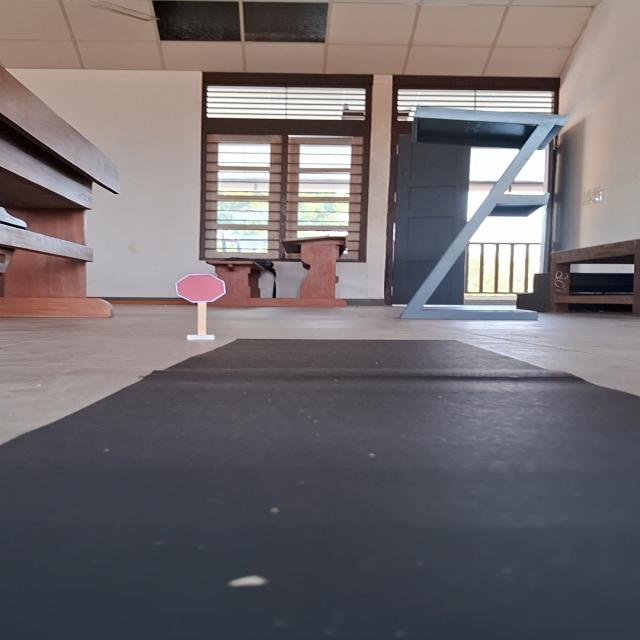Stop: (174, 272, 228, 304)
